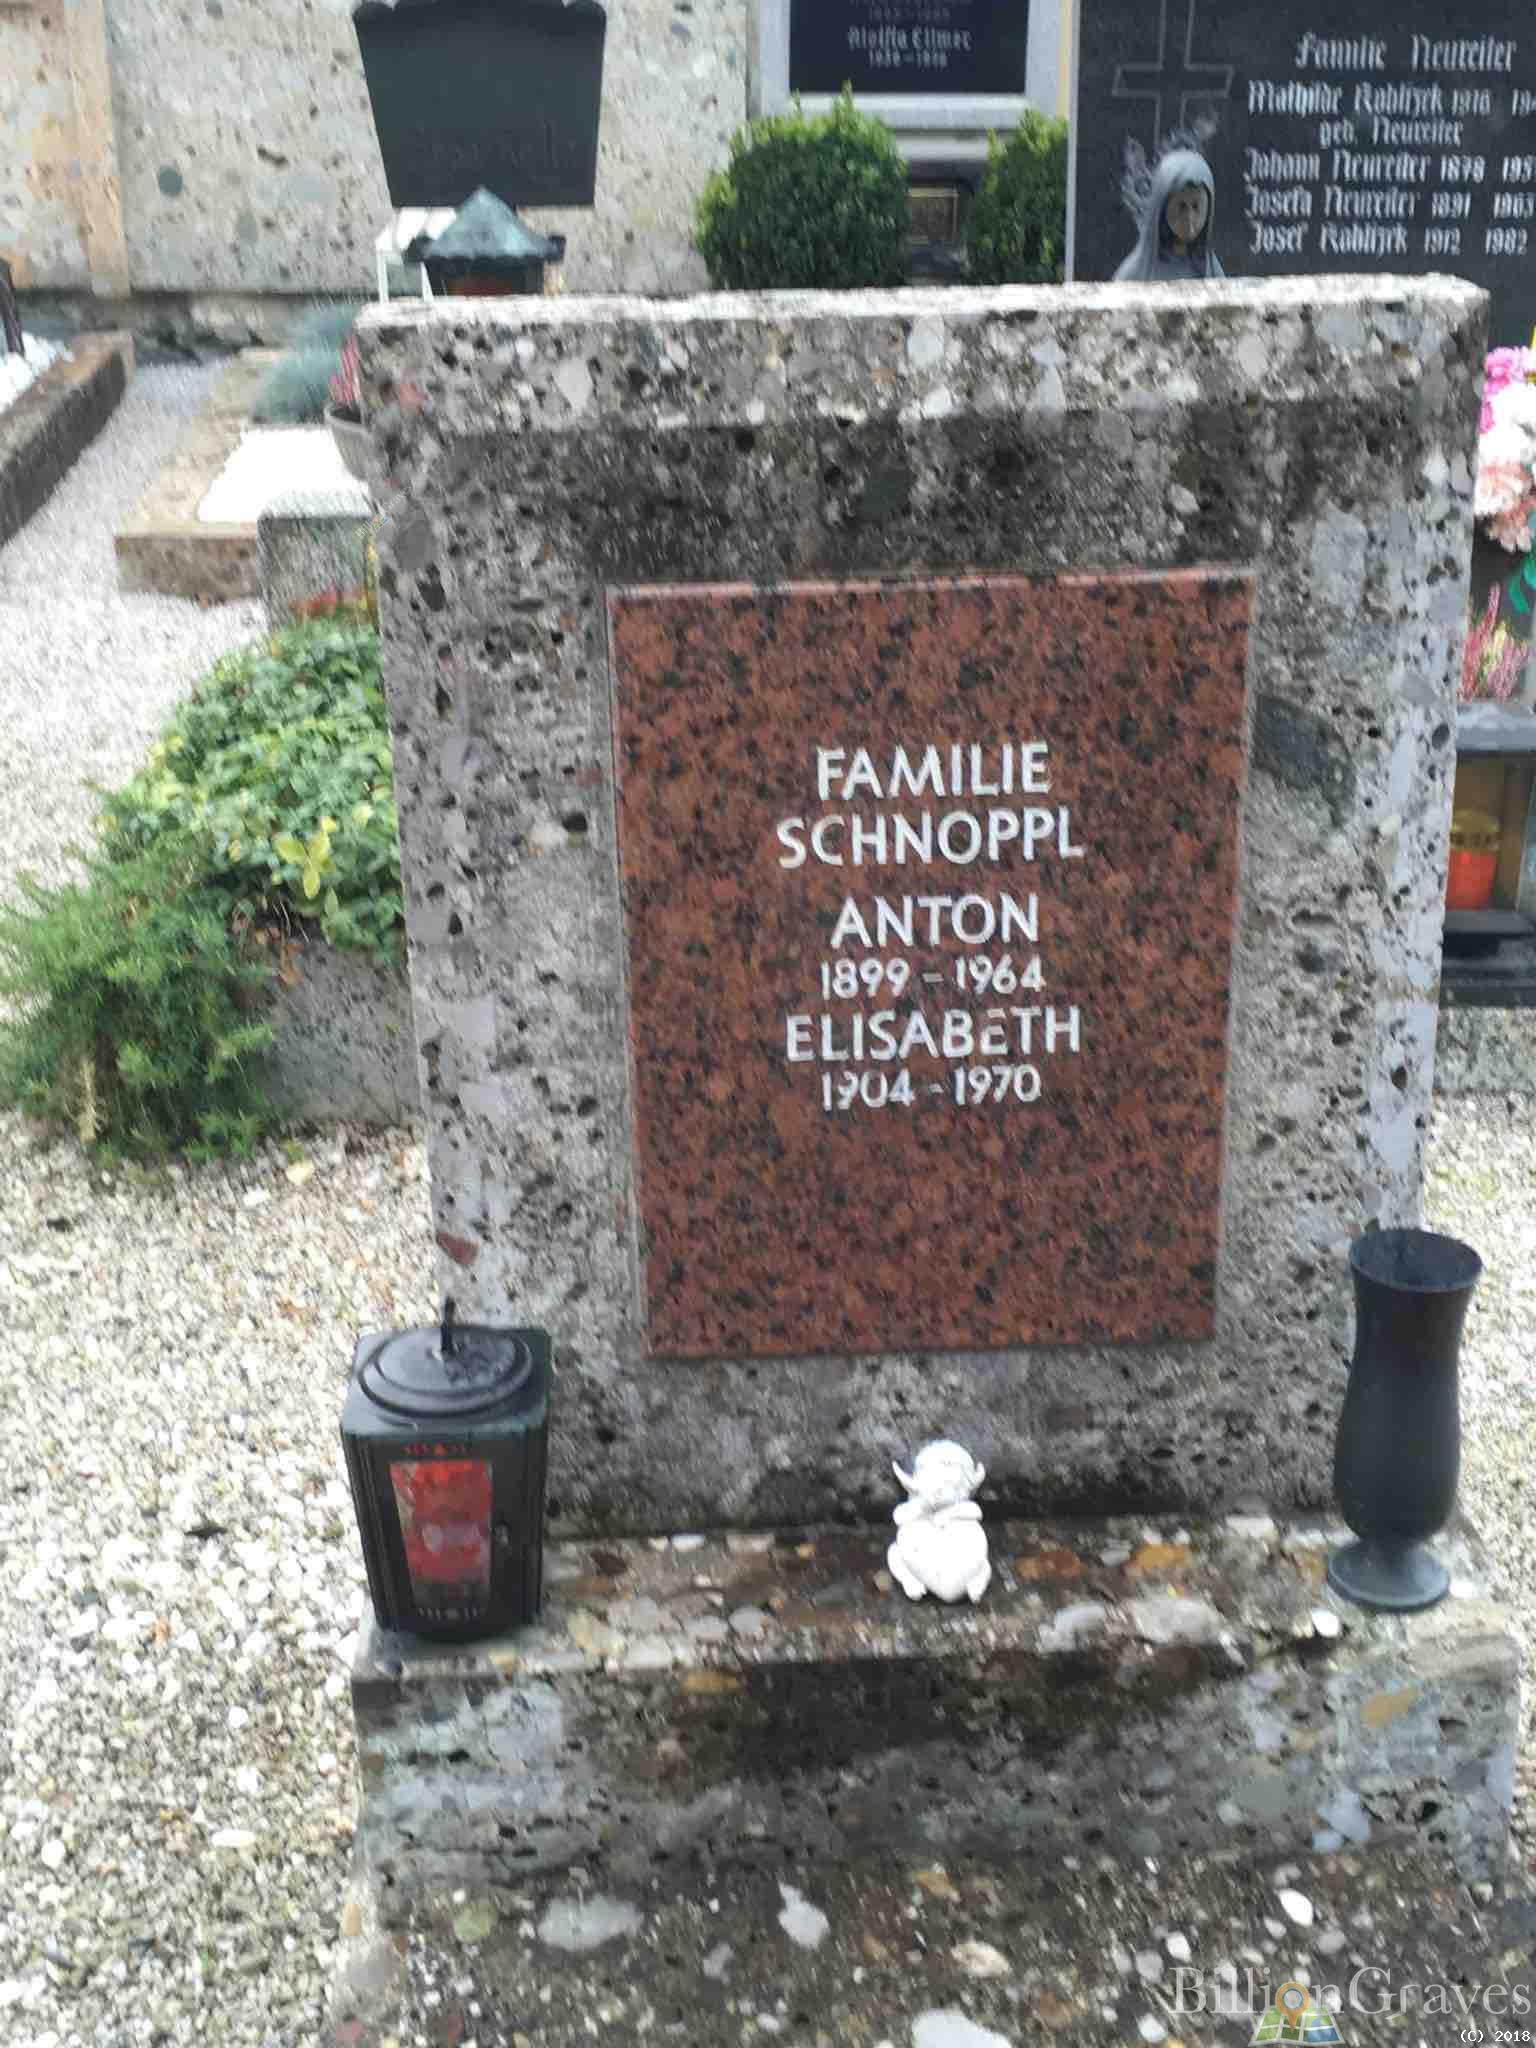upright: (237, 197, 1530, 1940)
